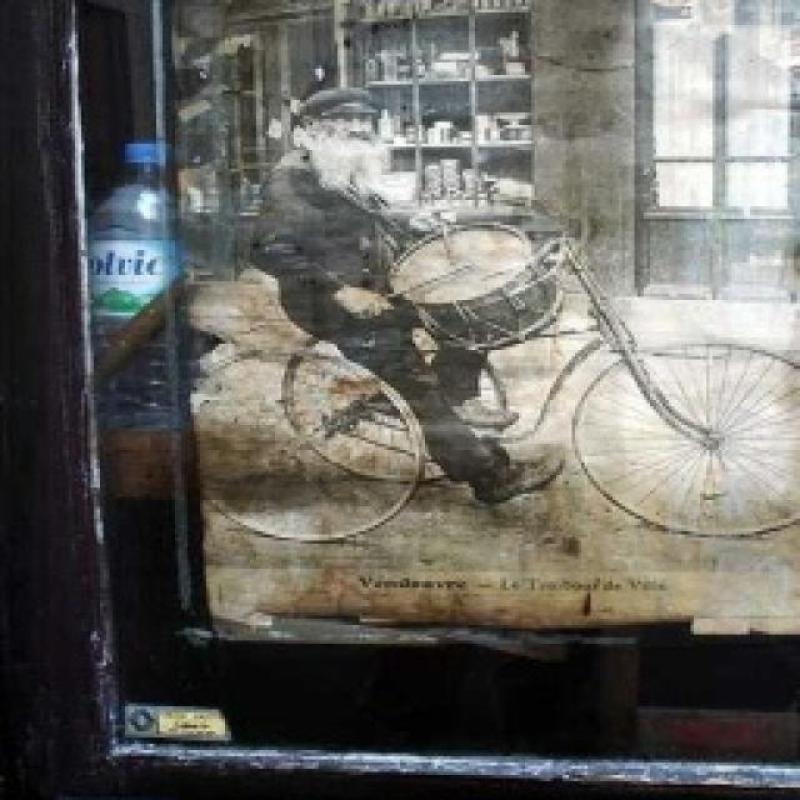botella: (92, 136, 170, 458)
